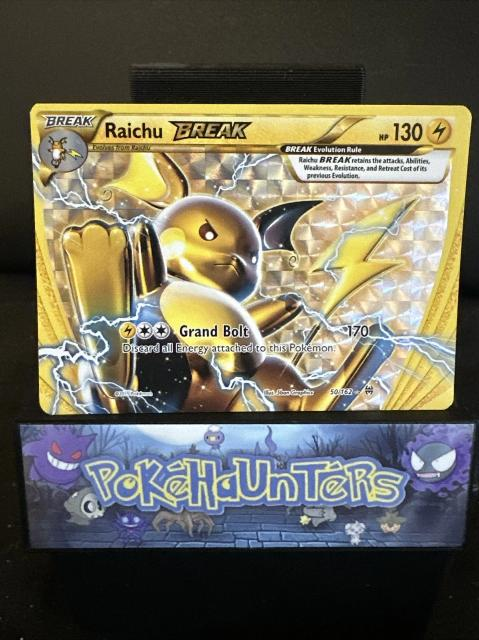Card: (26, 99, 478, 420)
Name: (102, 115, 258, 143)
